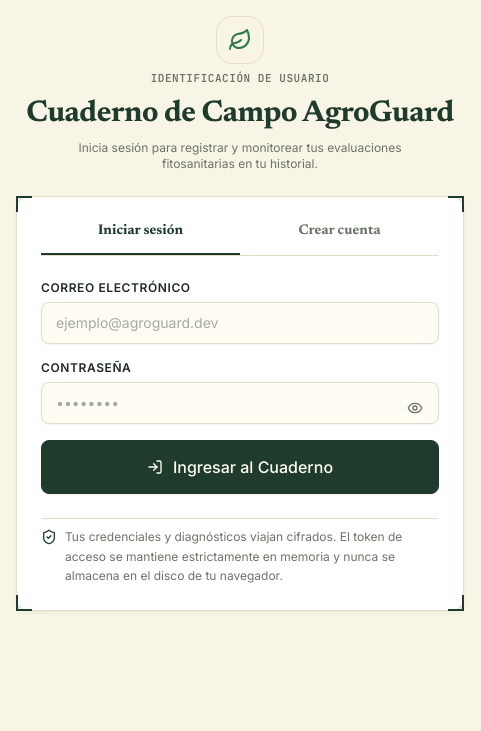
it: Feature Auth — Sesión y Autenticación › Muestra error amigable cuando las credenciales son incorrectas (401)
Type "usuario@incorrecto.com" into the field labelled "Correo Electrónico". click: (240, 323)
box: [41,302,439,344]
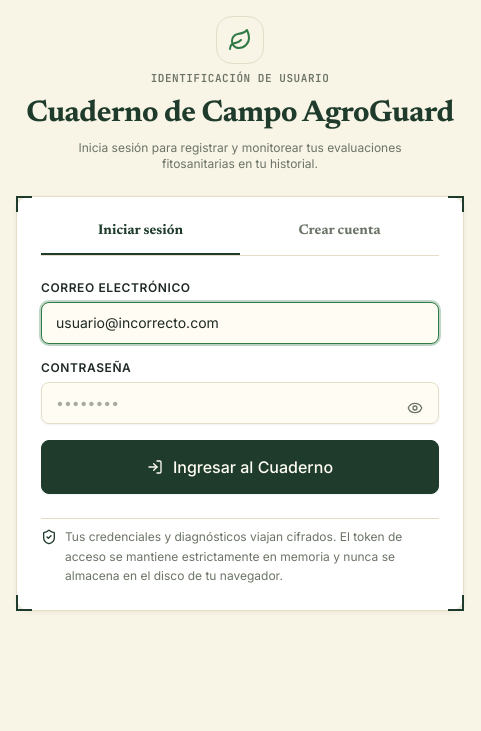
Type "claveerronea" into the password field labelled "Contraseña". click: (240, 403)
box: [41,382,439,424]
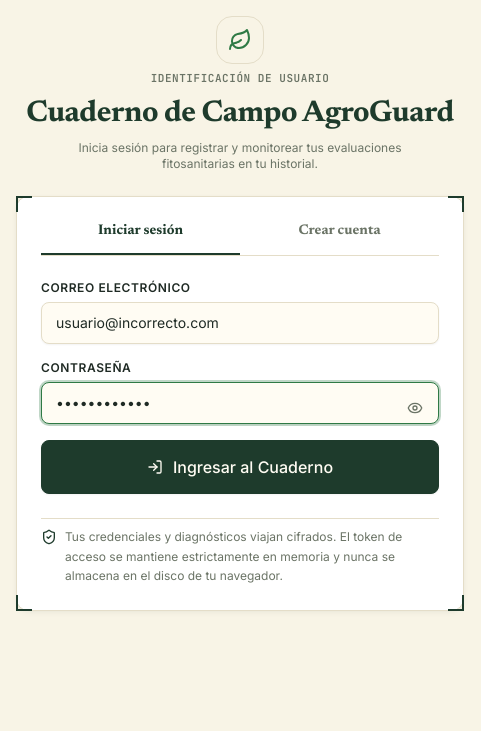
Click the button "Ingresar al Cuaderno". click: (240, 467)
box: [41,440,439,494]
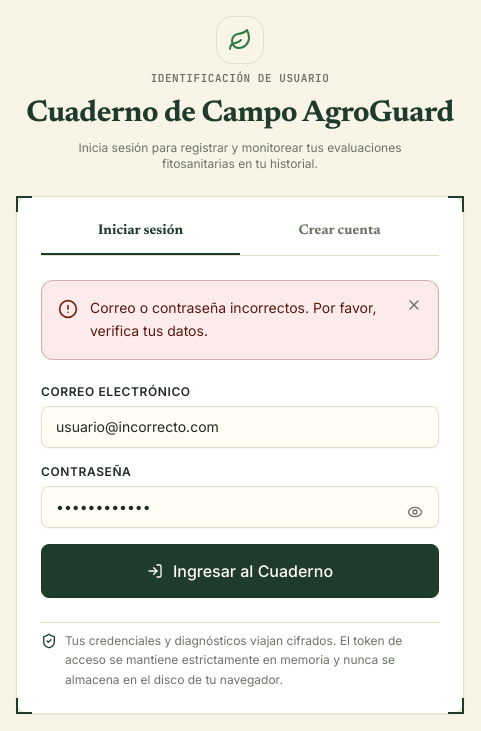
Now the text "Correo o contraseña incorrectos" is shown, box [90,299,376,339]
